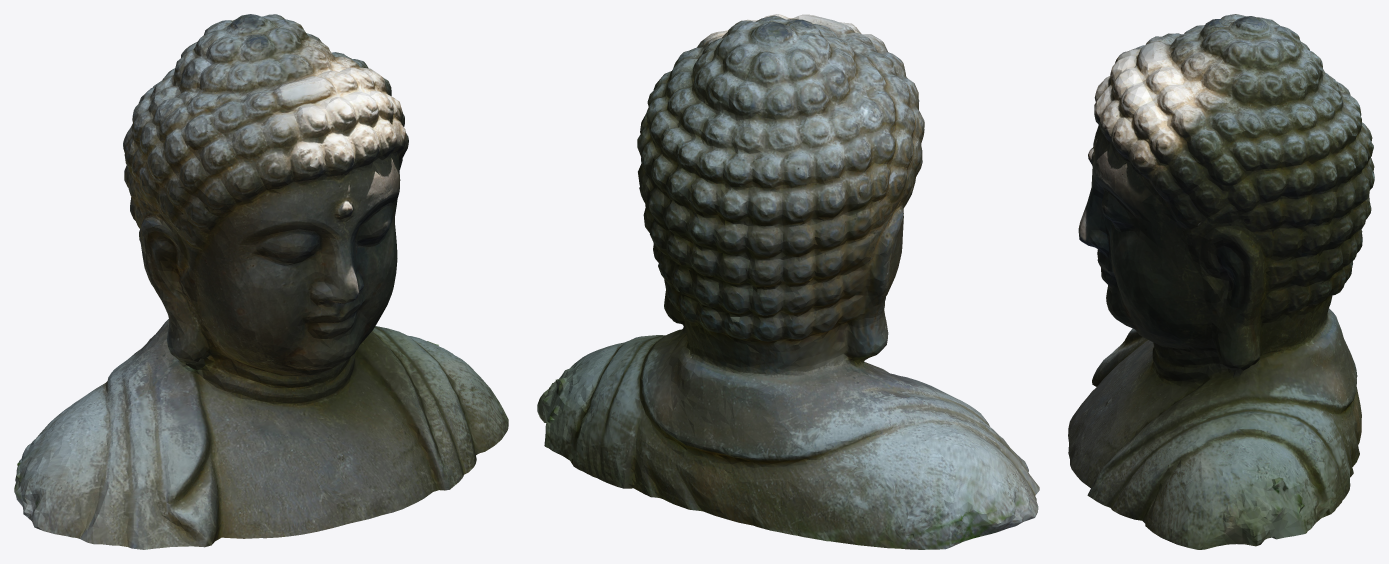
The model's file is source-objaverse.glb.
3 renders of one model, left to right at view 1: azimuth 30°, elevation 25°; view 2: azimuth 150°, elevation 25°; view 3: azimuth 270°, elevation 25°, orthographic. The views are drawn at different scales.
Parts seen in each view (by area): view 1: Object_3; view 2: Object_3; view 3: Object_3.
Boxes of the visible parts, left/top/right/bottom form: Object_3: left=14, top=14, right=508, bottom=549; Object_3: left=537, top=14, right=1039, bottom=549; Object_3: left=1068, top=14, right=1374, bottom=549.
Bounding box in the file's own units: 2.58 × 2.32 × 1.53.
Materials: 1 (1 with a texture image).
